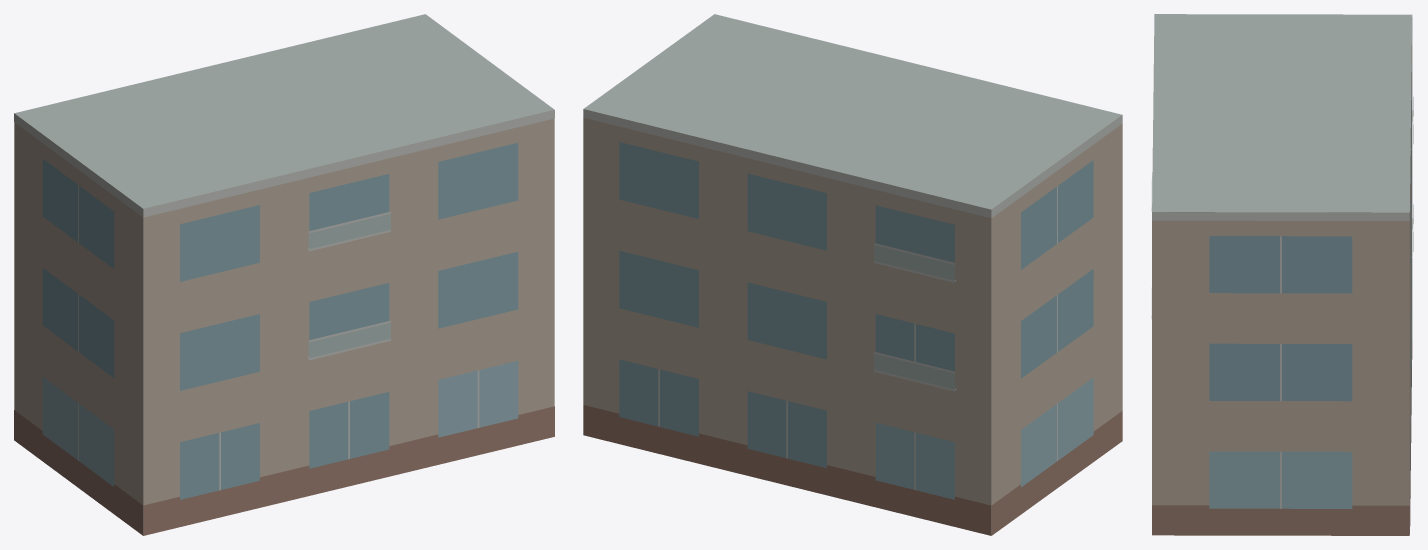
Rendered from survey-upis-32973613.glb.
3 renders of one model, left to right at view 1: azimuth 30°, elevation 25°; view 2: azimuth 150°, elevation 25°; view 3: azimuth 270°, elevation 25°, orthographic.
Parts seen in each view (by area): view 1: survey-upis-32973613.tmp; view 2: survey-upis-32973613.tmp; view 3: survey-upis-32973613.tmp.
Boxes of the visible parts, x1,y1,x2,y2 form: survey-upis-32973613.tmp: (14, 14, 554, 535); survey-upis-32973613.tmp: (583, 14, 1122, 535); survey-upis-32973613.tmp: (1151, 14, 1413, 535).
Size of the model in its own units: 12.06 by 9.15 by 6.72.
